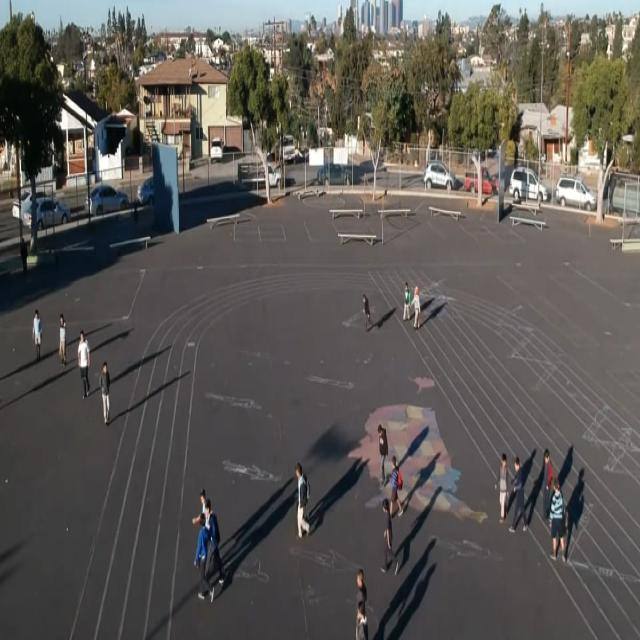humans: (204, 498, 228, 593), (548, 477, 572, 568), (379, 490, 403, 580), (193, 513, 215, 606), (509, 449, 532, 534), (293, 455, 313, 543), (76, 322, 94, 403), (388, 449, 406, 524), (375, 416, 393, 489), (495, 452, 512, 528), (540, 439, 554, 530), (97, 356, 114, 427), (354, 597, 374, 640), (361, 288, 378, 338), (351, 560, 369, 606), (30, 301, 44, 360), (58, 306, 70, 371), (410, 283, 424, 332), (400, 279, 412, 325), (197, 482, 209, 507)
